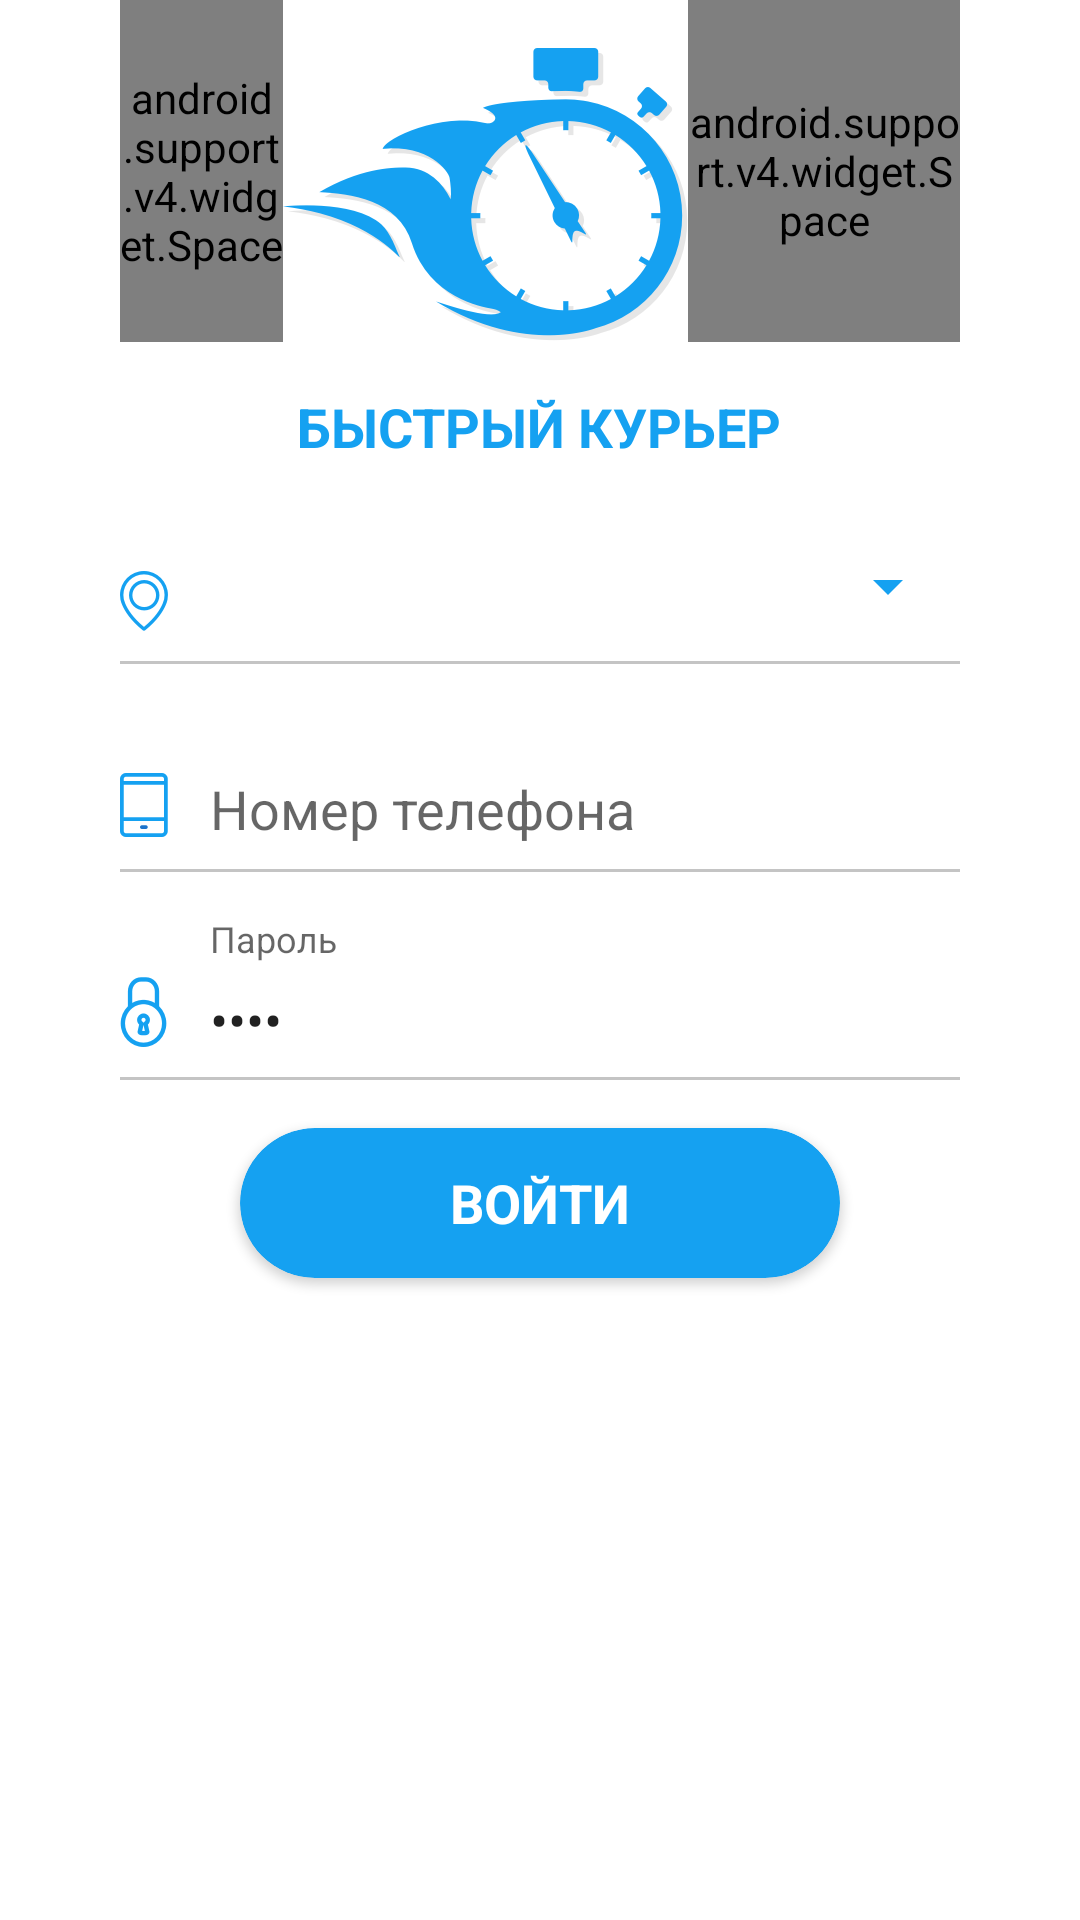

Icons on this 1080 x 1920 Android screen, each with the point to tap as (x,y):
city: (144,601)
password: (143,1012)
phone: (144,805)
